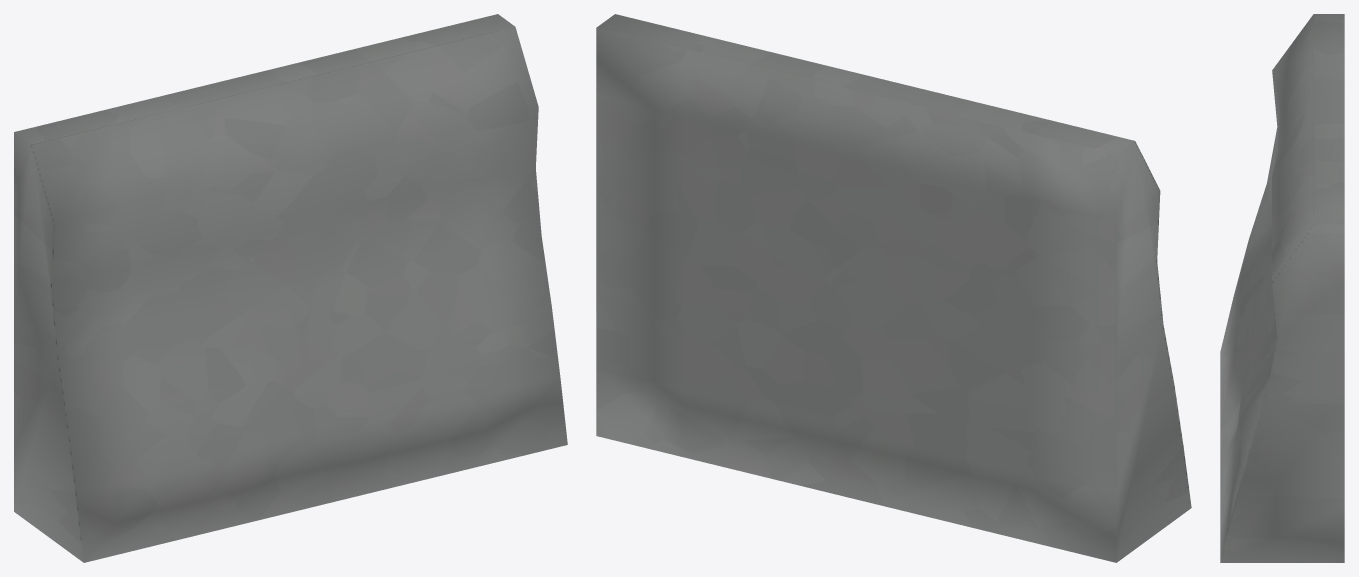
Rendered from wall.glb.
The picture shows the model from 3 angles, left to right: view 1: azimuth 30°, elevation 25°; view 2: azimuth 150°, elevation 25°; view 3: azimuth 270°, elevation 25°; orthographic projection. The views are drawn at different scales.
Visible parts, largest first — view 1: Wall; view 2: Wall; view 3: Wall.
Part boxes in pixels (x1,y1,x2,y2): Wall: (14, 14, 567, 562); Wall: (596, 14, 1191, 562); Wall: (1220, 14, 1344, 562).
Size of the model in its own units: 8 by 6 by 2.
Materials: 1 (1 with a texture image).
